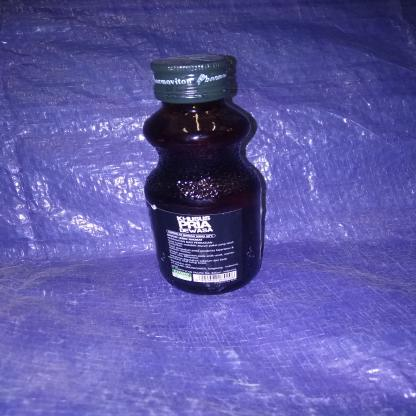keyboard: (138, 51, 274, 300)
